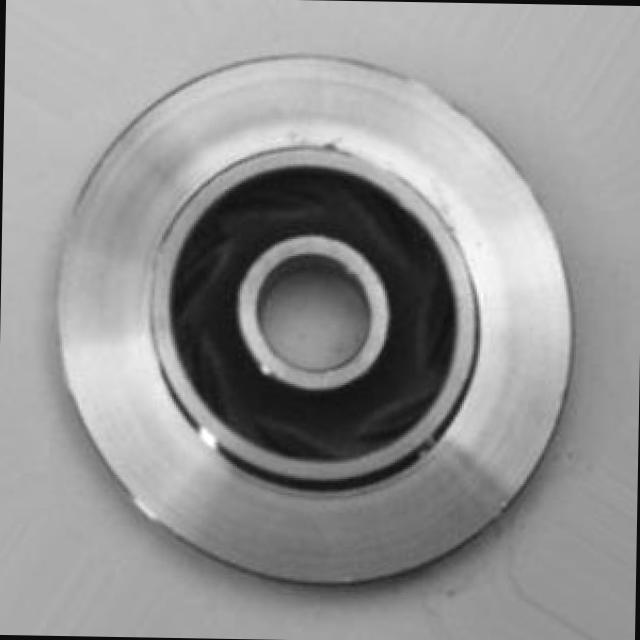Defect: (306, 128, 354, 160)
